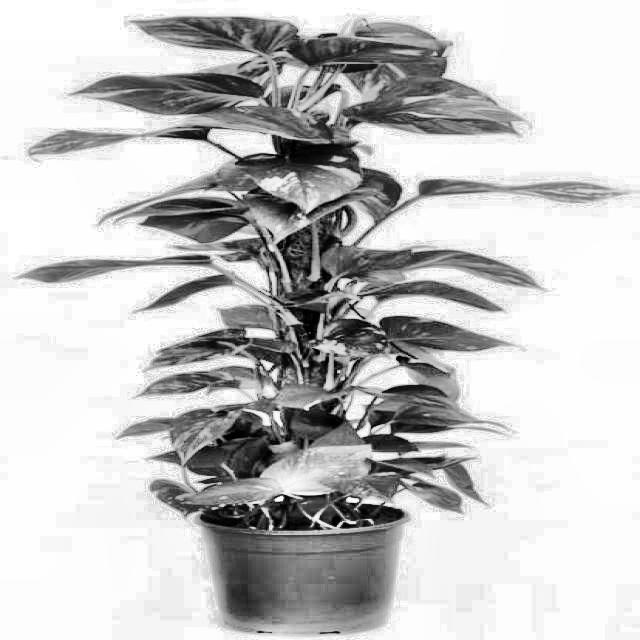plants: (23, 15, 639, 639)
